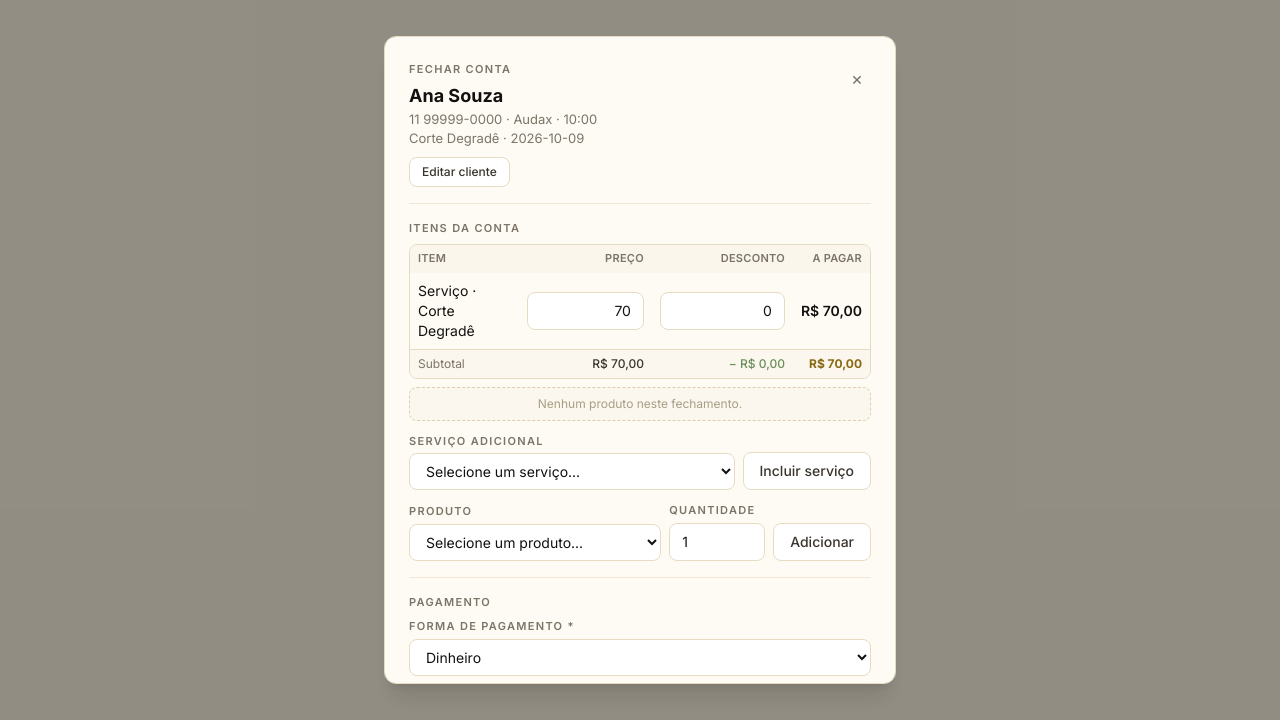
Fase 3 — produtos no fechamento do atendimento › fecha atendimento + produto num único fechamento, com receitas separadas
Select "Shampoo · R$ 35,00 · estoque 10" in the dropdown labelled "Produto". click: (535, 542)
box: top-left (409, 524), bottom-right (661, 561)
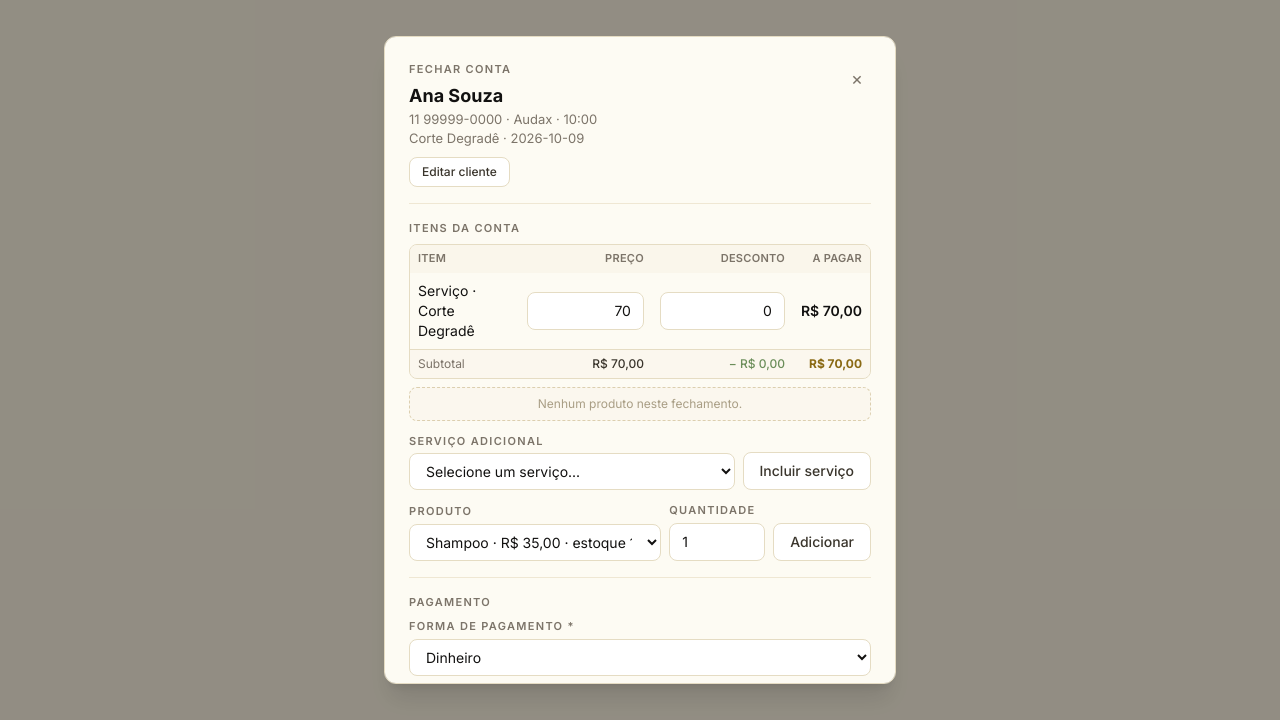
Replace the text in the field labelled "Quantidade" with "2". click: (717, 542)
box: top-left (669, 523), bottom-right (765, 561)
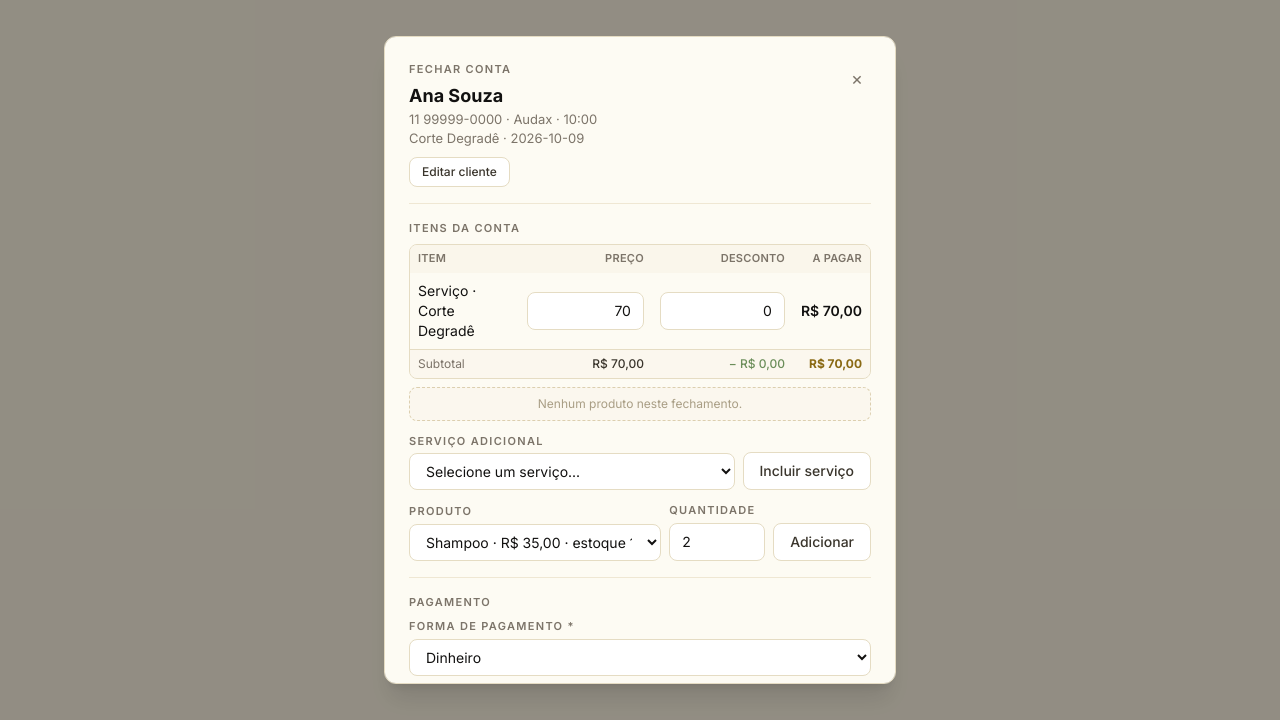
Click the button "Adicionar". click: (822, 542)
box: top-left (773, 523), bottom-right (871, 561)
(page scrolled)
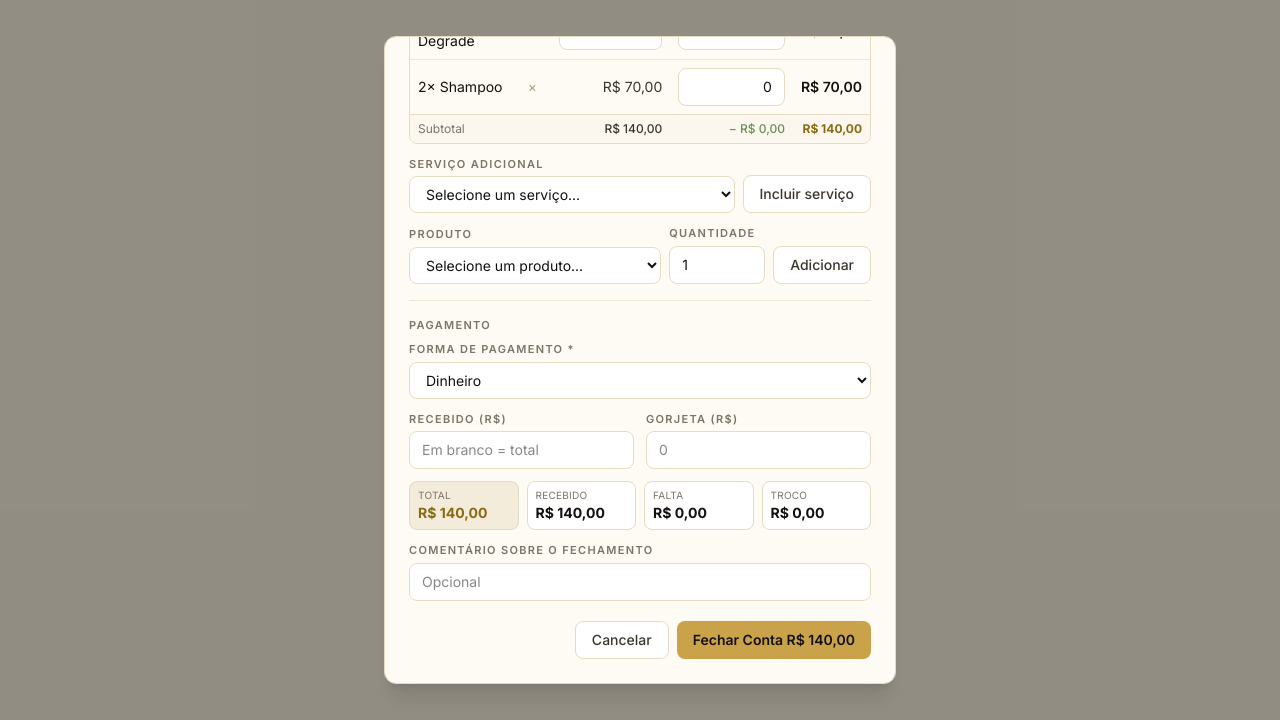
Now the button "Fechar Conta R$ 140,00" is shown
Click the button "Fechar Conta R$ 140,00". click: (774, 640)
box: top-left (677, 621), bottom-right (871, 659)
(page scrolled)
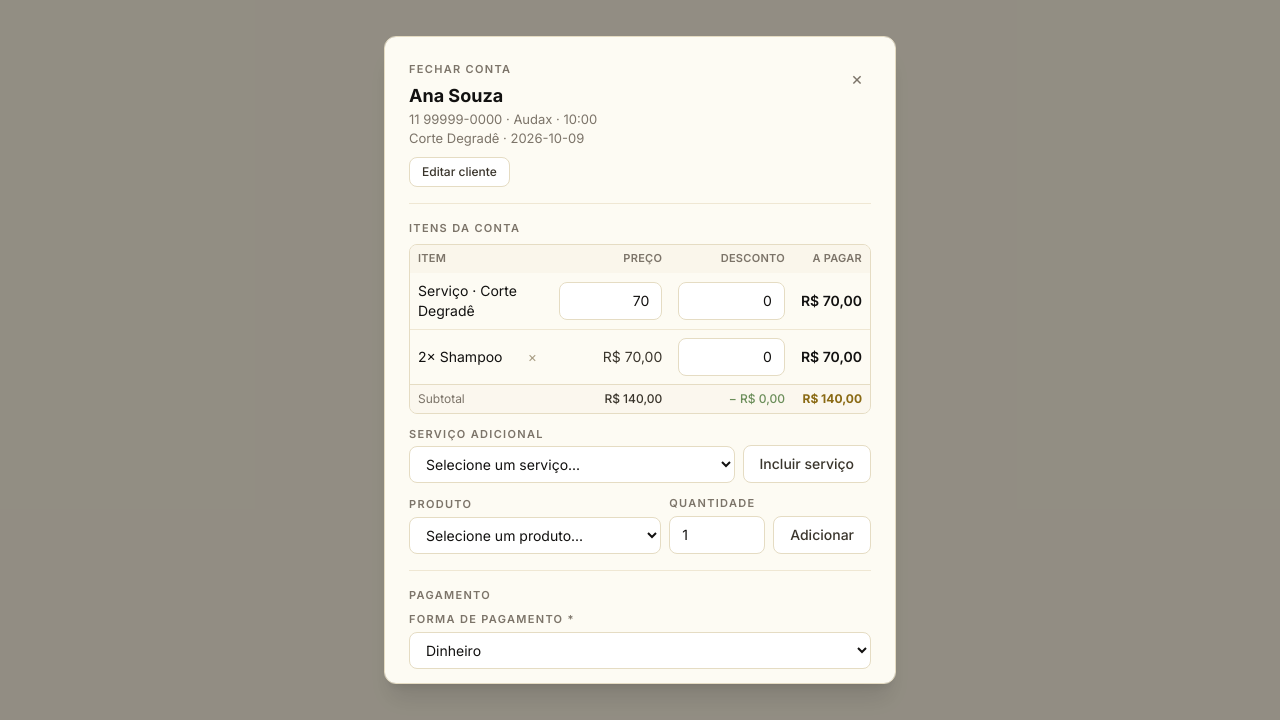
Now the heading "Ana Souza" is shown, box top-left (409, 84), bottom-right (503, 106)
